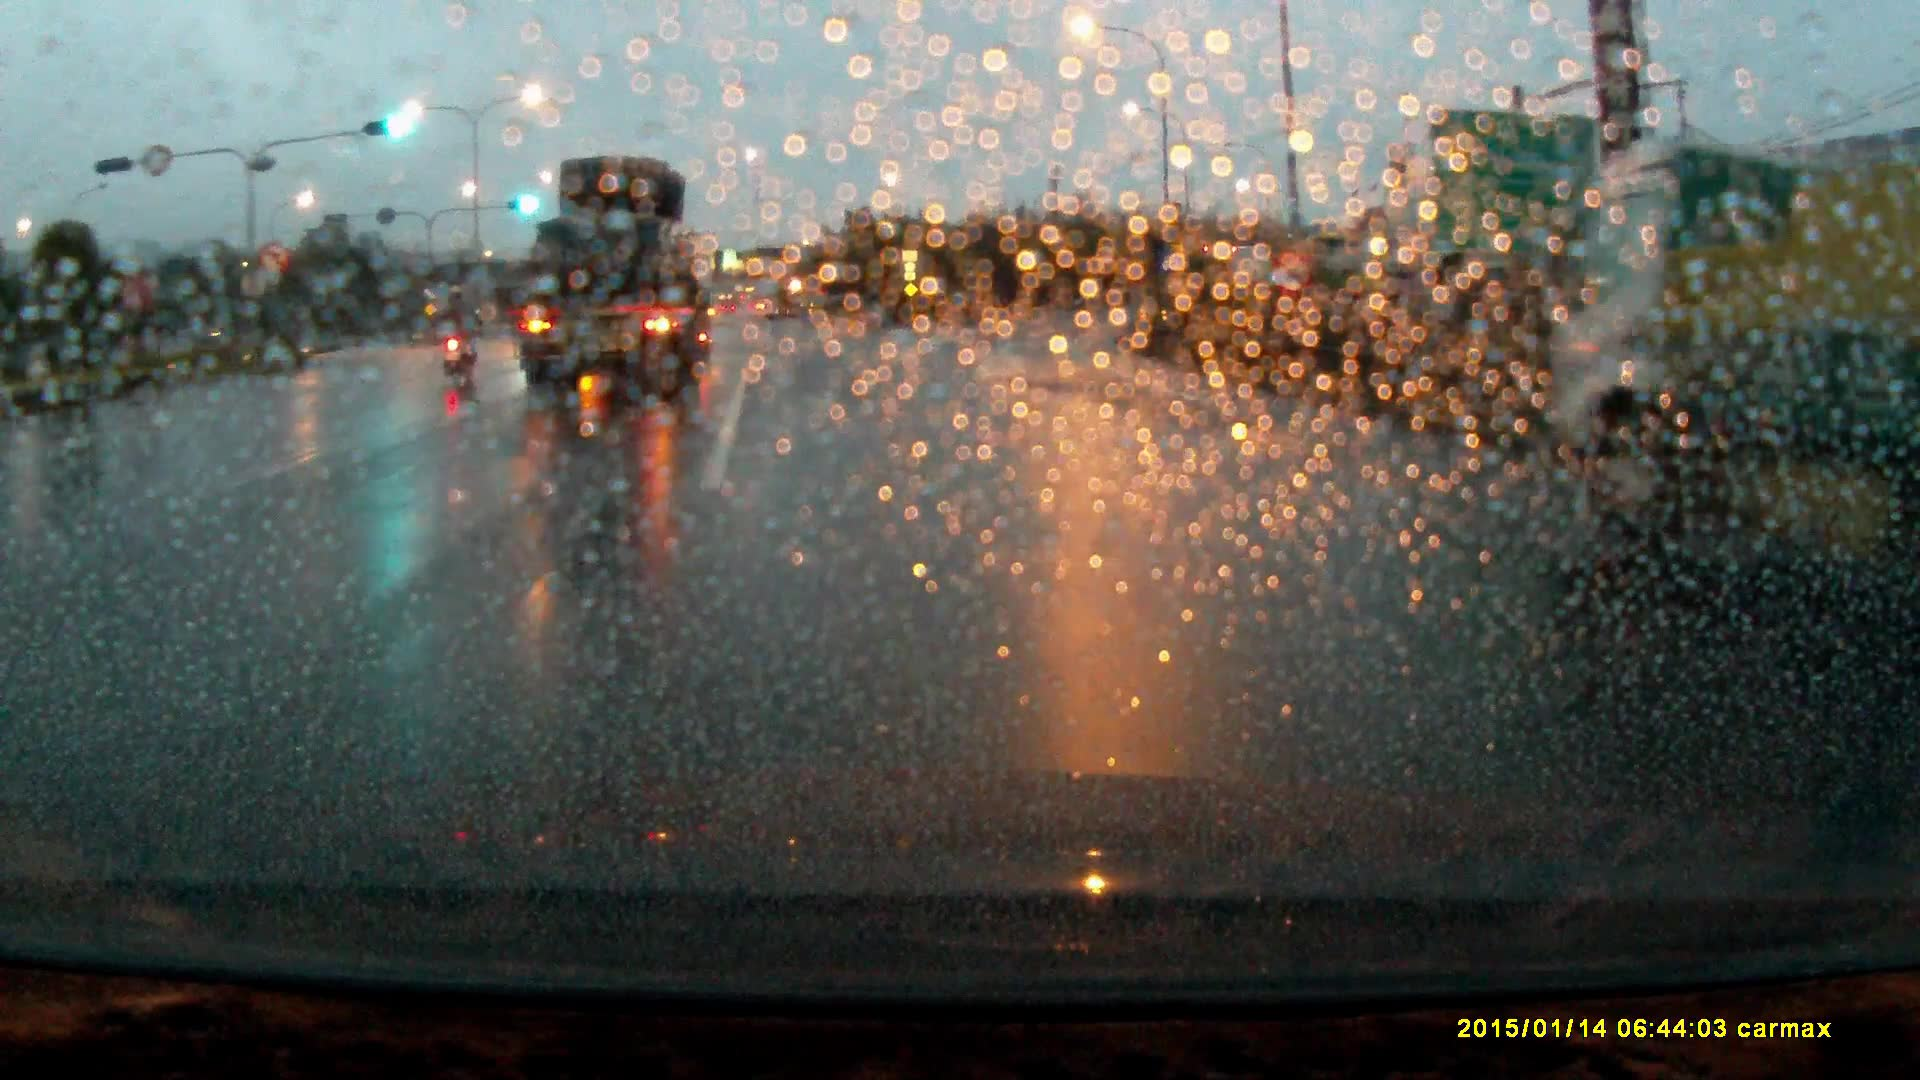rider: (429, 280, 480, 390)
vehicle: (1557, 129, 1920, 574), (513, 152, 714, 408)
